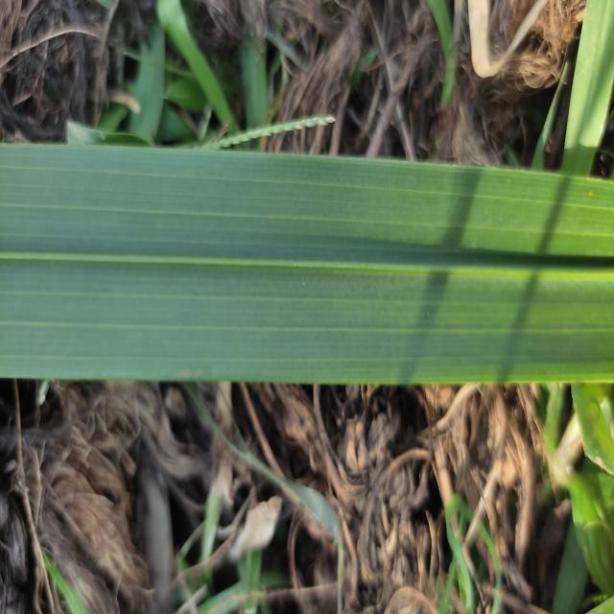Healthy: (0, 138, 614, 384)
